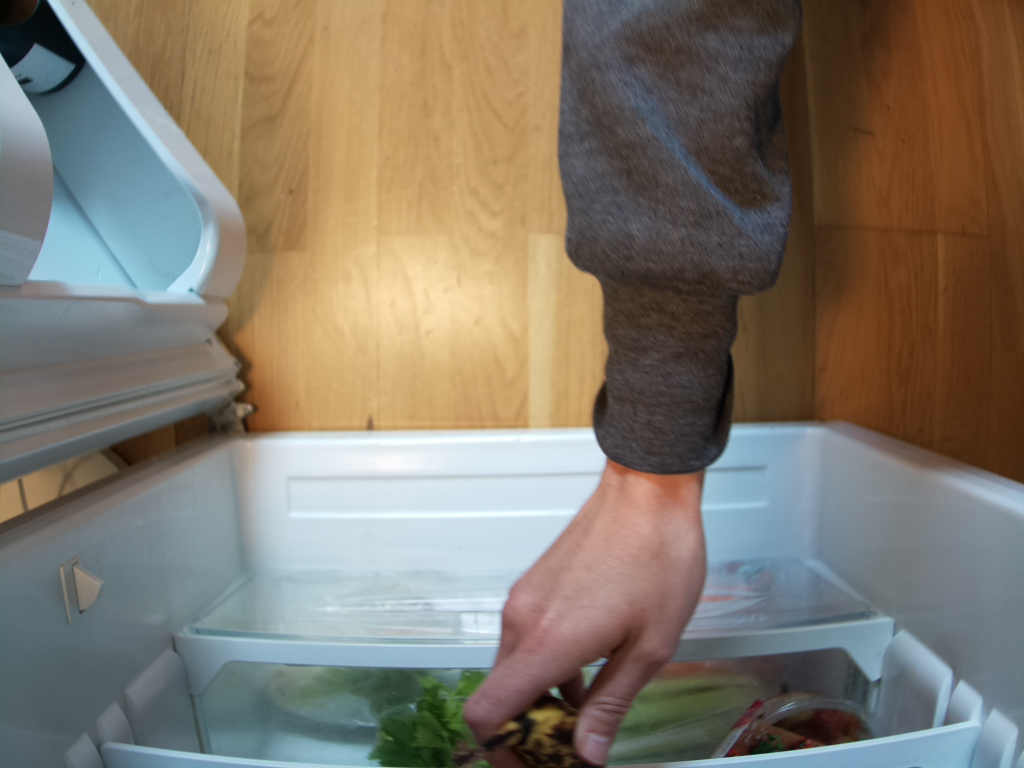banana-overripe: (452, 710, 589, 768)
